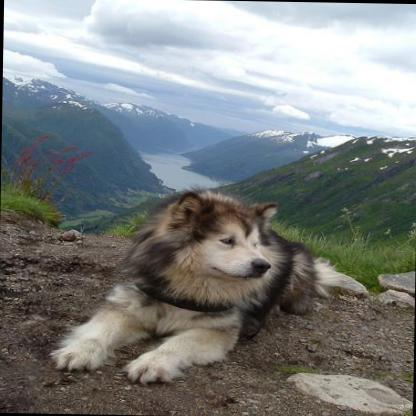malamute: (44, 187, 366, 389)
